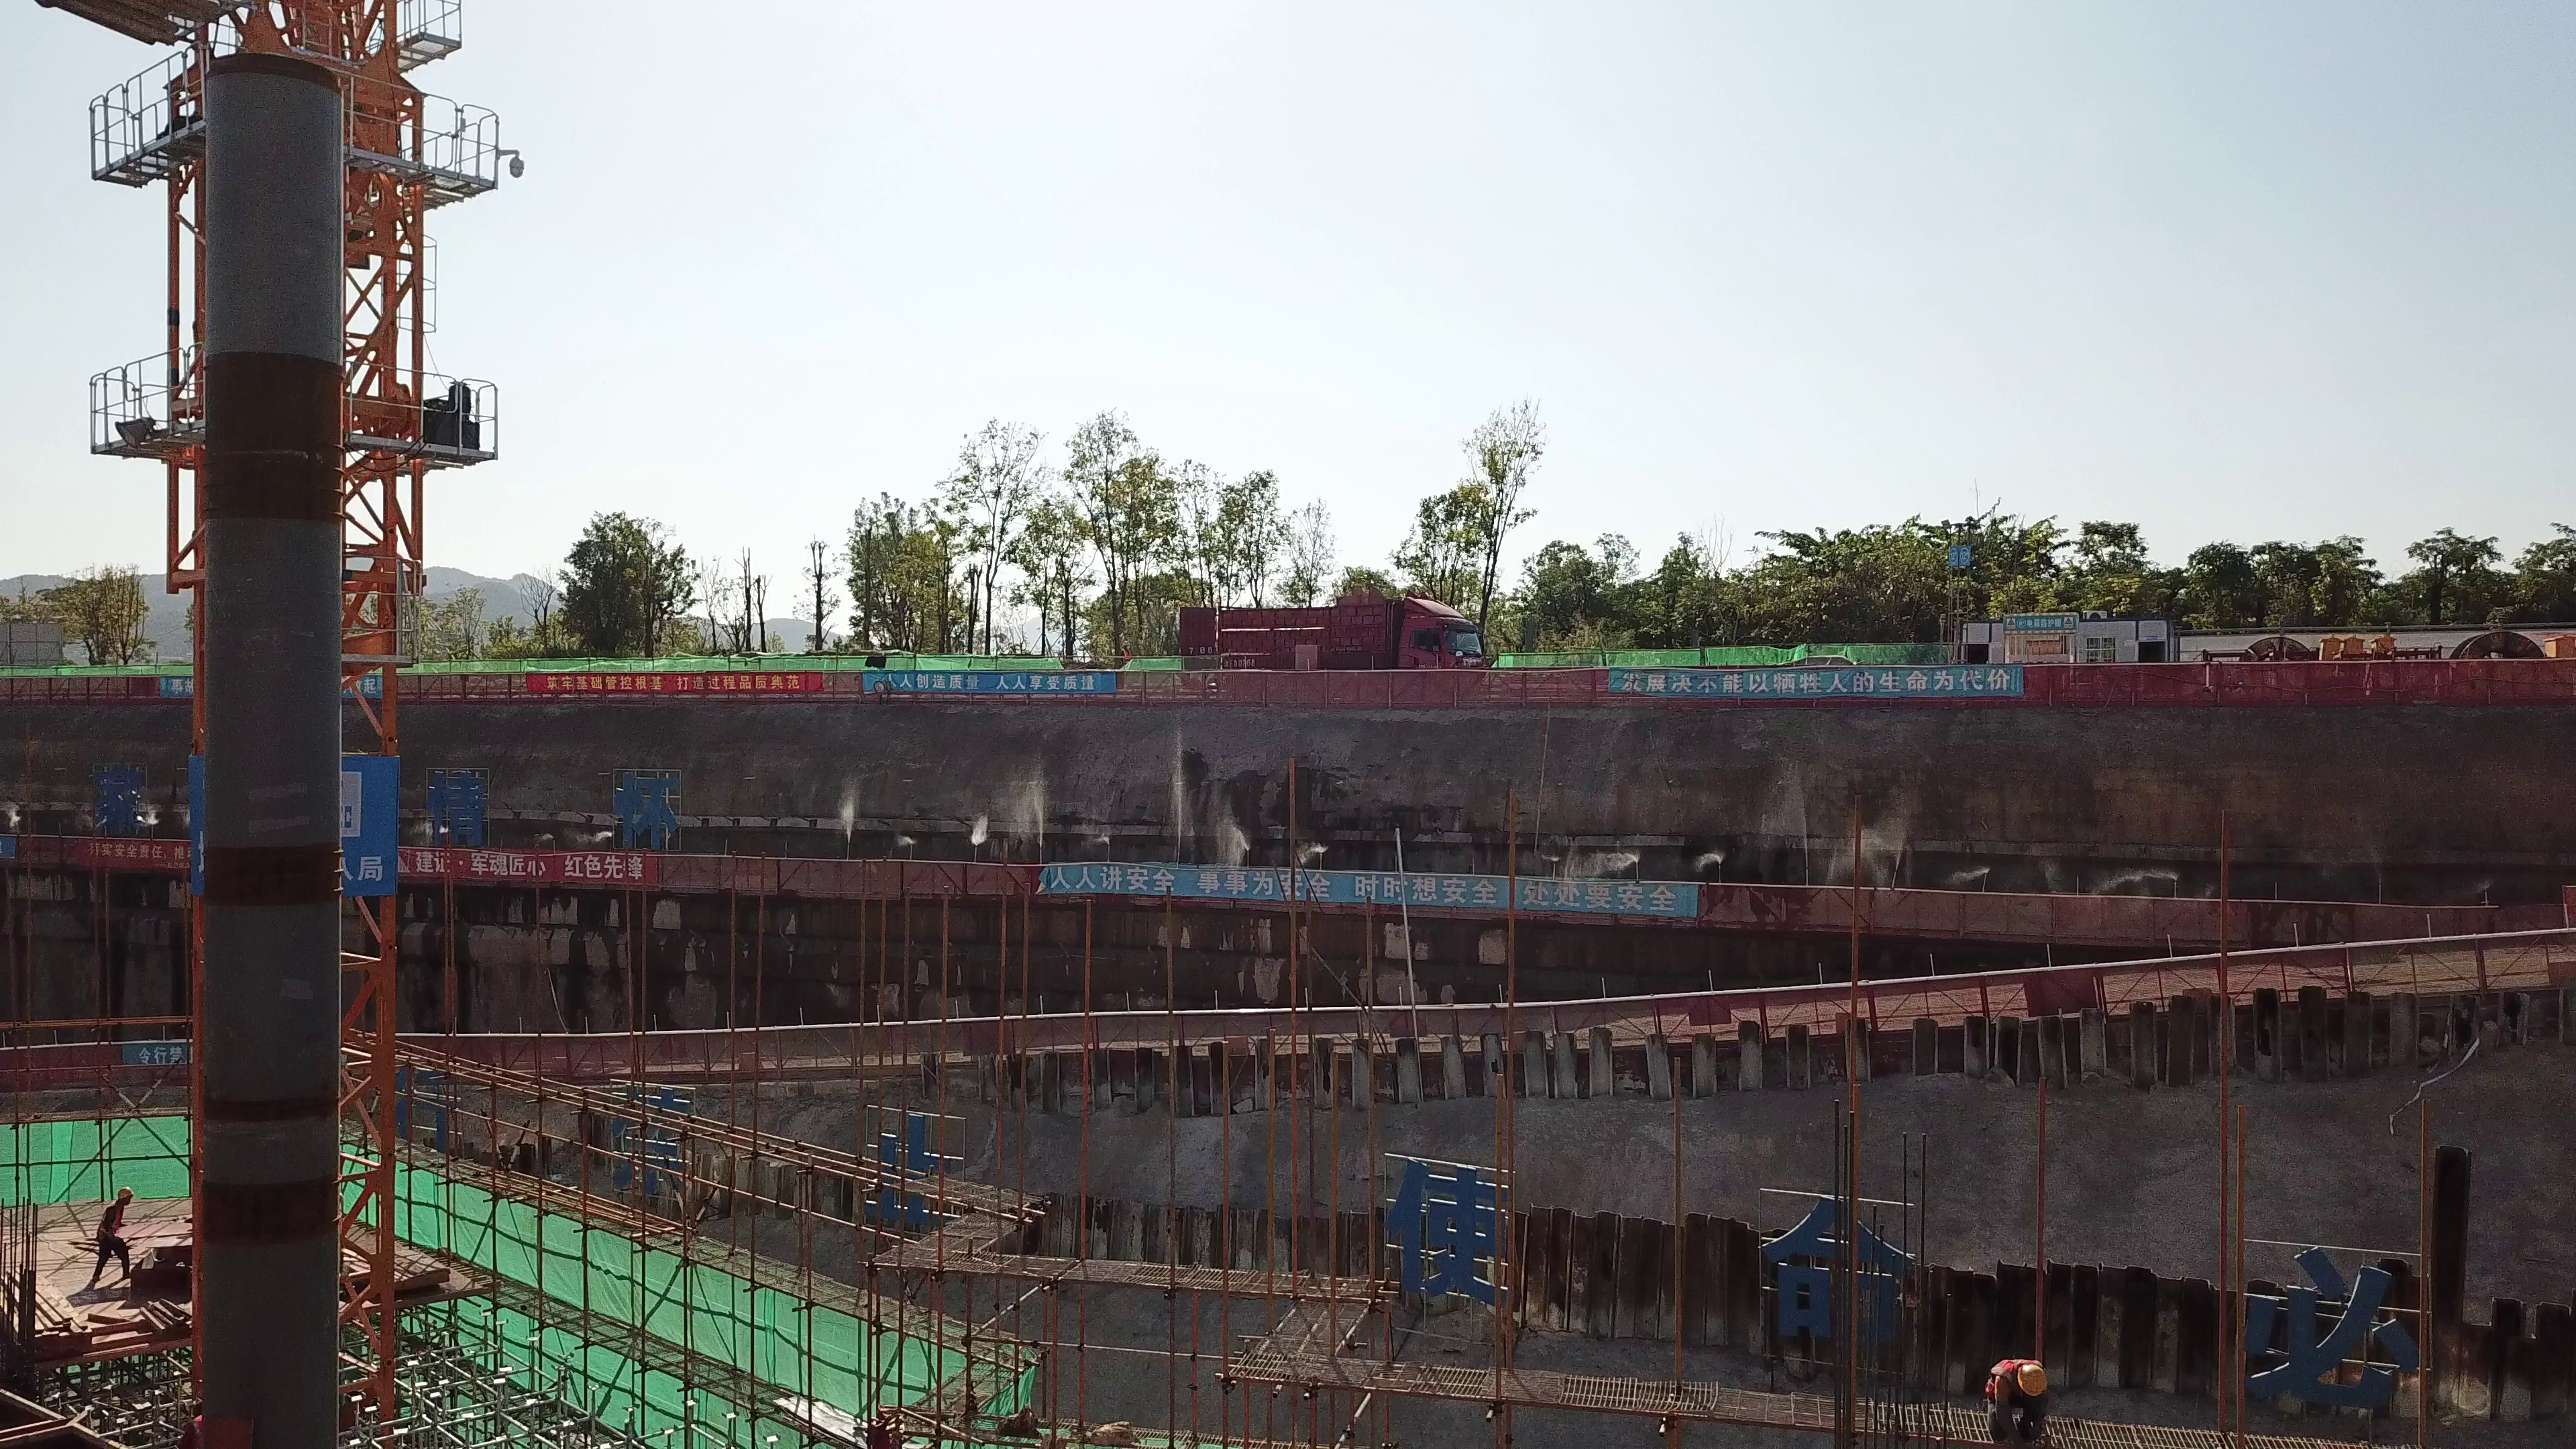fence: (1710, 869, 2410, 935), (2103, 926, 2574, 1022), (2029, 653, 2576, 709), (934, 1000, 1357, 1064), (1352, 992, 1769, 1054), (1768, 969, 2098, 1041), (1130, 664, 1609, 708), (665, 852, 1039, 897)
helmet: (2018, 1364, 2049, 1393), (114, 1183, 135, 1197)
person: (77, 1179, 150, 1305)
slogan: (1041, 861, 1703, 918), (1611, 664, 2023, 700), (402, 844, 659, 886), (525, 670, 827, 696), (861, 671, 1117, 697), (86, 833, 194, 869)
vest: (1986, 1345, 2018, 1401), (91, 1202, 125, 1241)
